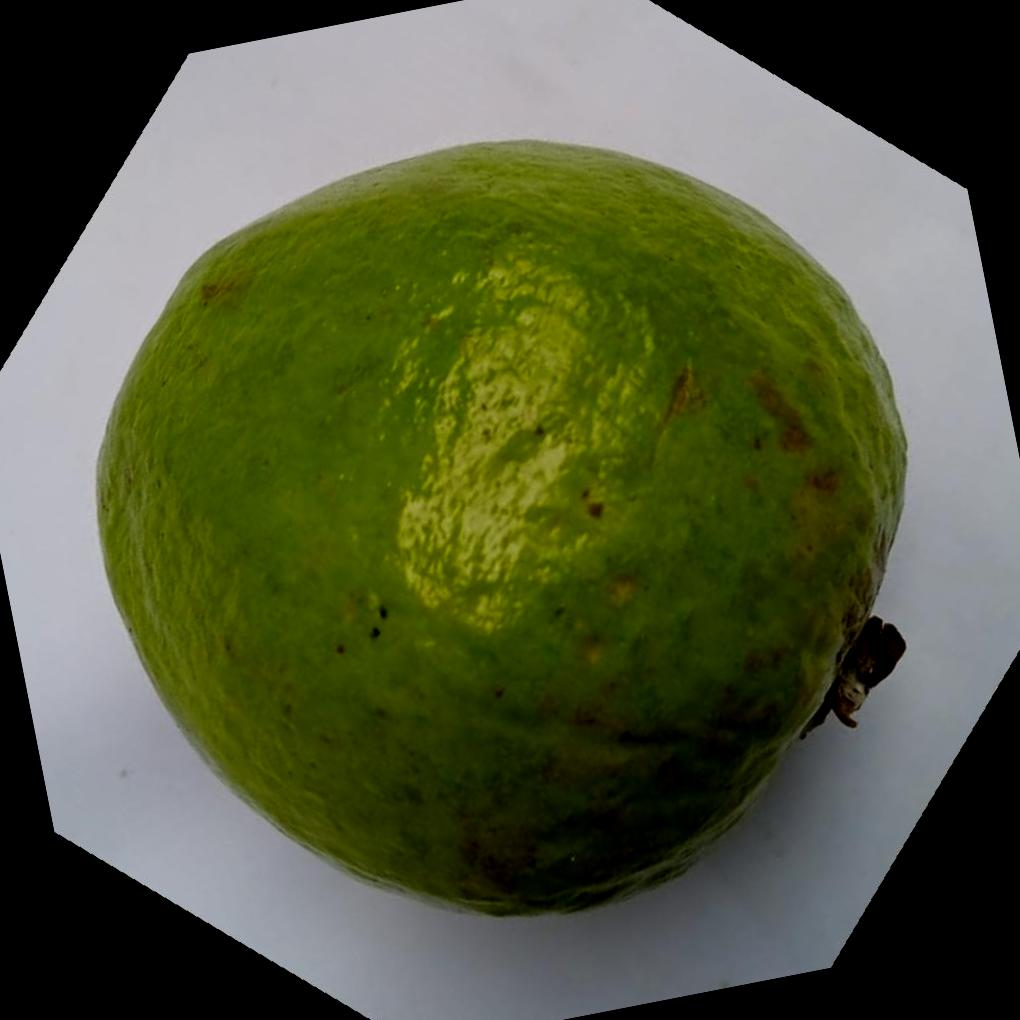FreshGuava: (90, 137, 907, 919)
